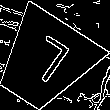L_SW: (16, 32, 72, 91)
